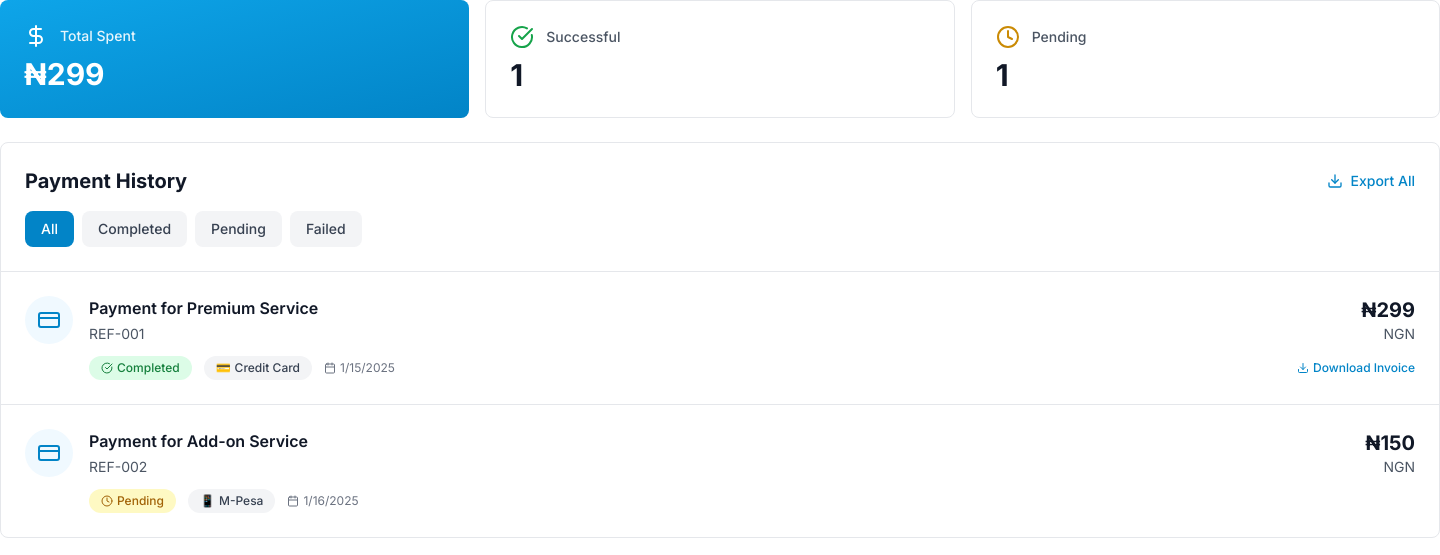
Test: BillingHistory Component › filters payments by status
The image size is (1440, 555).
Expected: the text "REF-001" is shown, [89,325,144,342]
// Find and click the "Completed" filter button
Step 1. Click the button "Completed" → coordinates (135, 229), box [82,211,187,247]
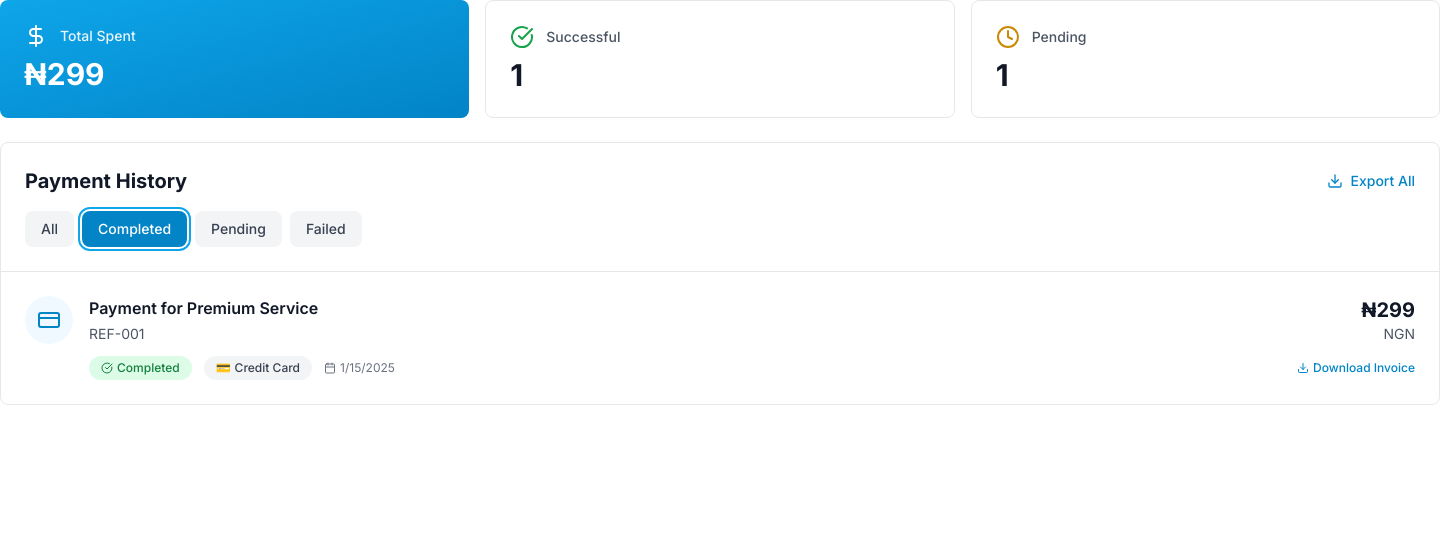
Expected: the text "REF-001" is shown, [89,325,144,342]
Result: the text "REF-002" is gone
